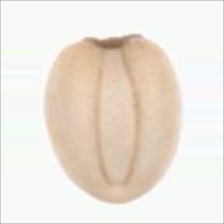L5: (96, 46, 141, 189), (84, 178, 152, 206), (78, 32, 150, 51)
L6: (42, 34, 183, 205)
